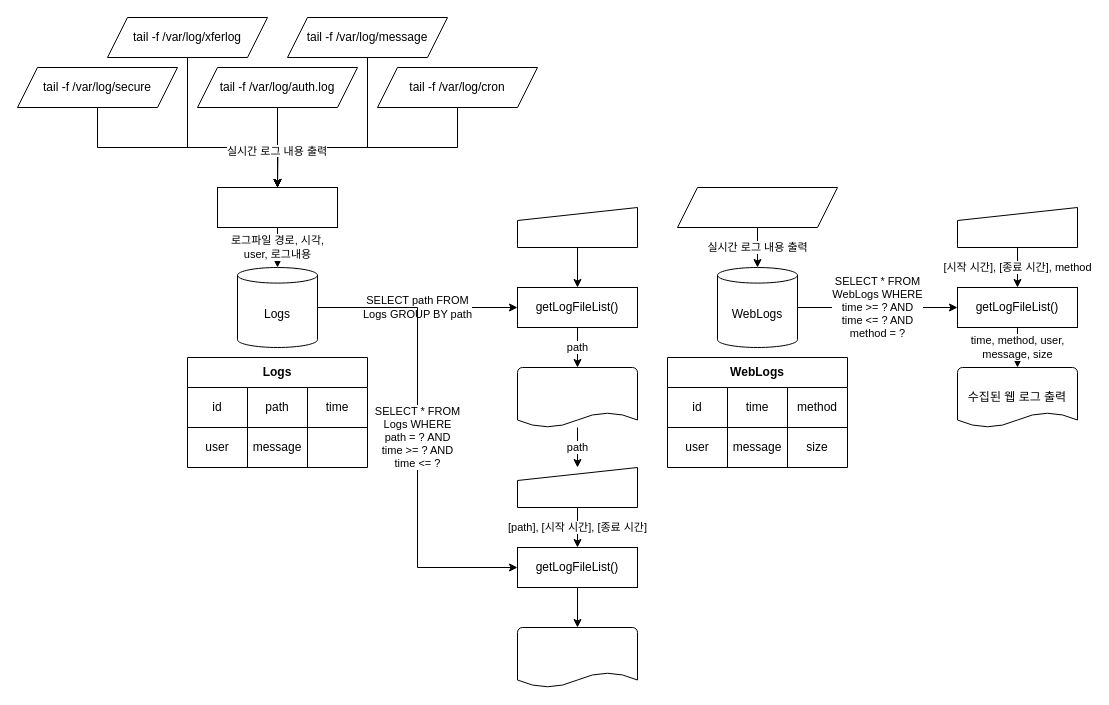
The diagram is 1109 pixels wide and 705 high, and some of its shapes have lost their labels. The box of each missing label's shape, as (x1, y1, x2, y2) in pixels:
logParser(): (216, 186, 338, 228)
수집된 로그 파일 종류 요청: (516, 206, 638, 248)
수집된 모든 path 화면 출력: (516, 366, 638, 428)
수집된 웹로그 요청: (956, 206, 1078, 248)
웹로그: (676, 186, 838, 228)
특정 로그파일의 로그 요청: (516, 466, 638, 508)
특정 로그파일의 로그 출력: (516, 626, 638, 688)
